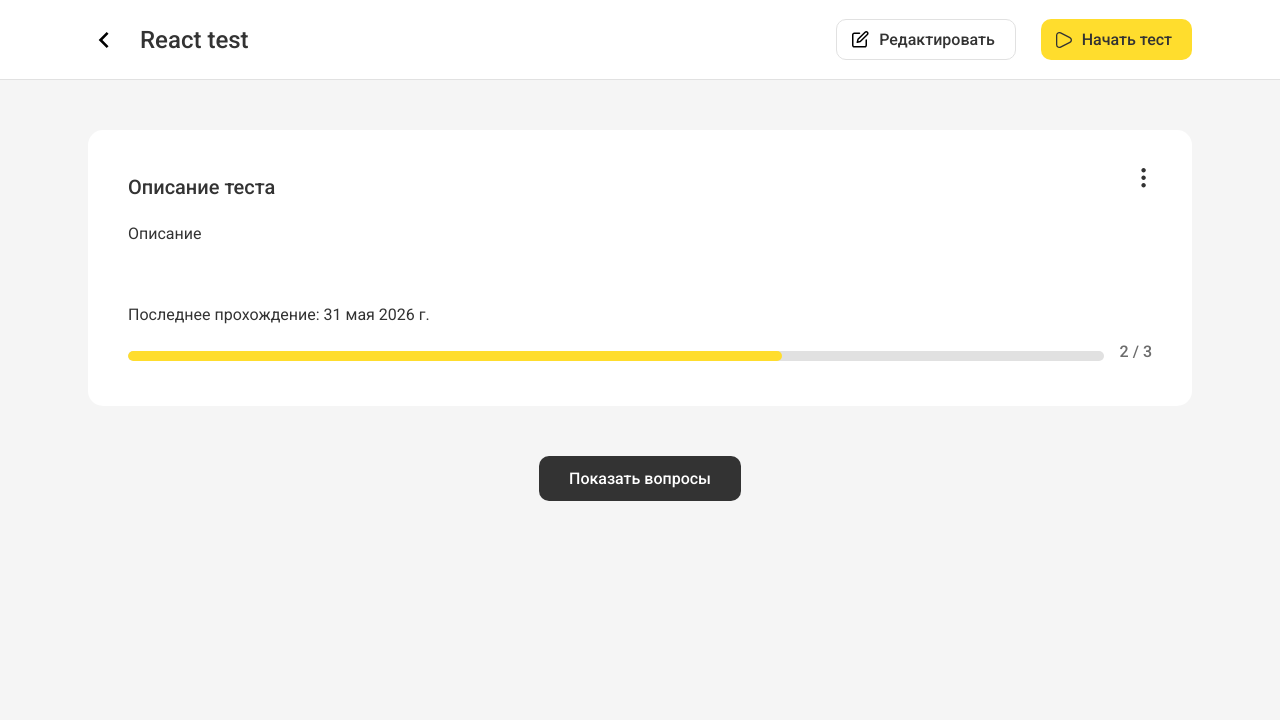
Test: TestPage › questions › does not reload questions when shown again
The width and height of the screenshot is (1280, 720).
Expected: the heading "React test" is shown, [140,26,249,54]
What coordinates should you click on to do the following:
click the button "Показать вопросы"
I would click on:
 (640, 478)
Its box is [539,456,741,501].
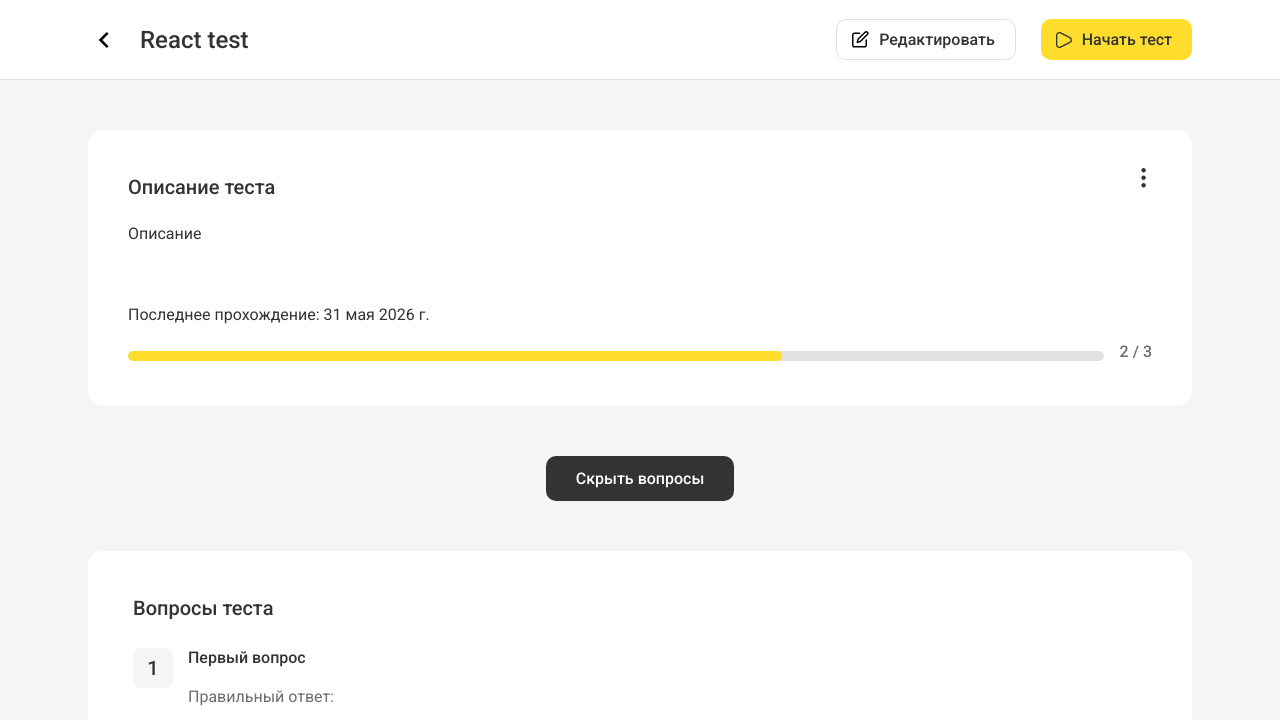
Expected: the text "Первый вопрос" is shown, [188,648,306,667]
What coordinates should you click on to do the following:
click the button "Скрыть вопросы"
I would click on:
 (640, 478)
Its box is [546,456,734,501].
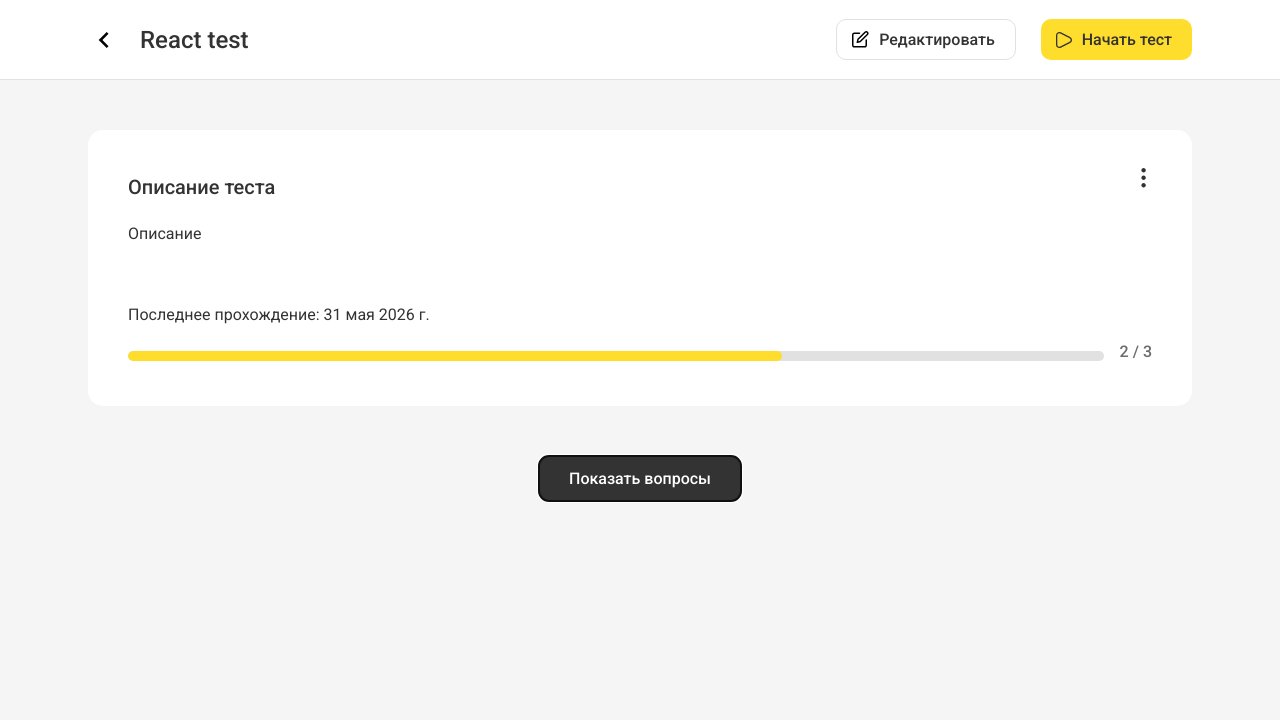
What coordinates should you click on to do the following:
click the button "Показать вопросы"
I would click on:
 (640, 478)
Its box is [539,456,741,501].
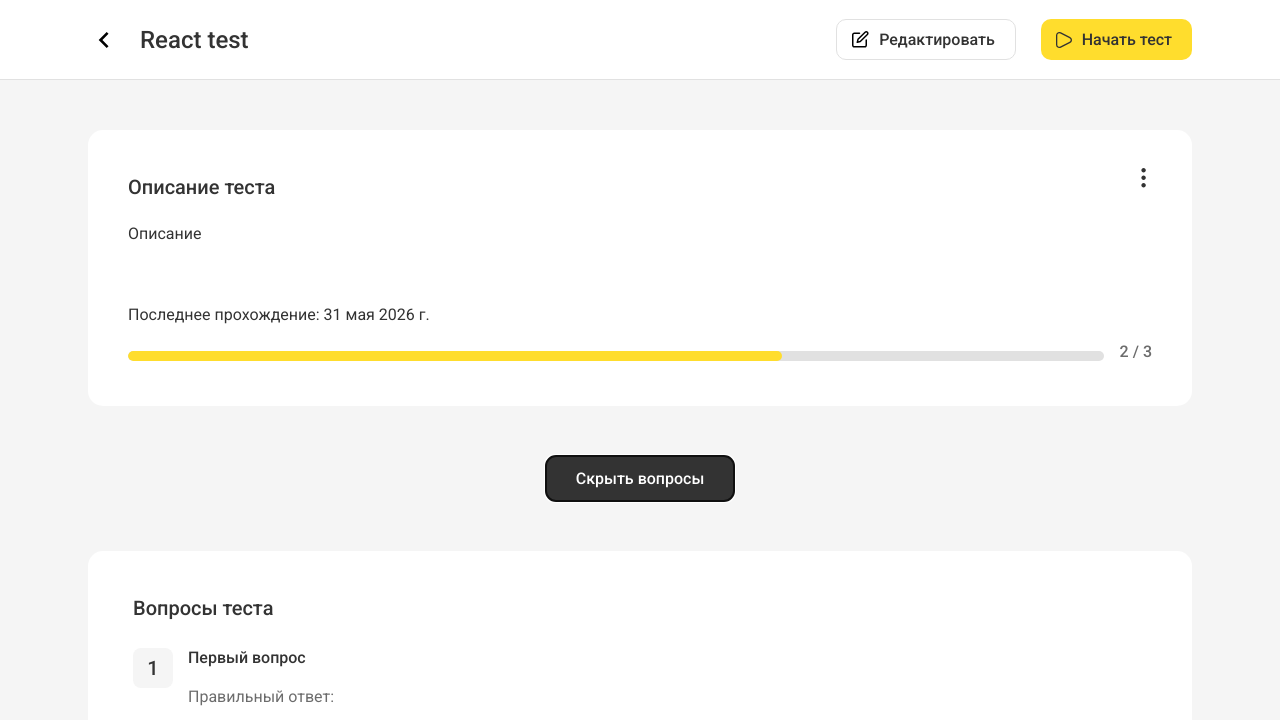
Expected: the text "Первый вопрос" is shown, [188,648,306,667]
